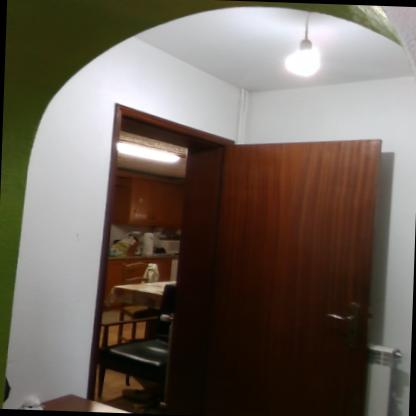open: (61, 92, 399, 416)
